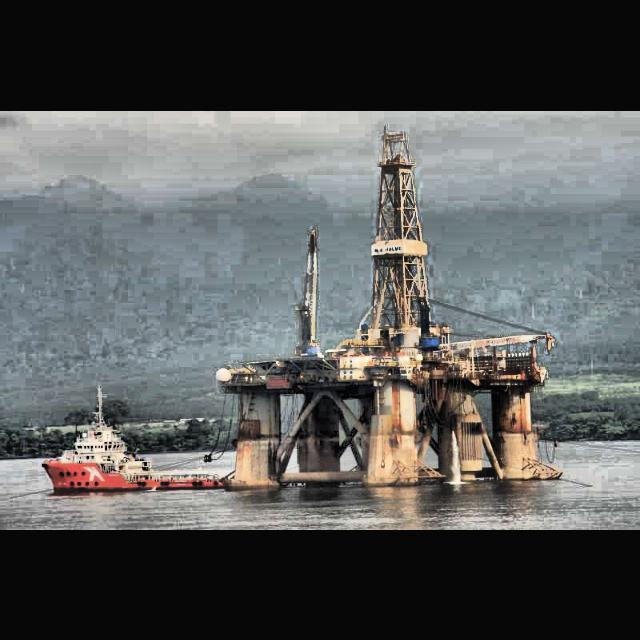anchor_handling_tug_supply: (39, 410, 231, 494)
